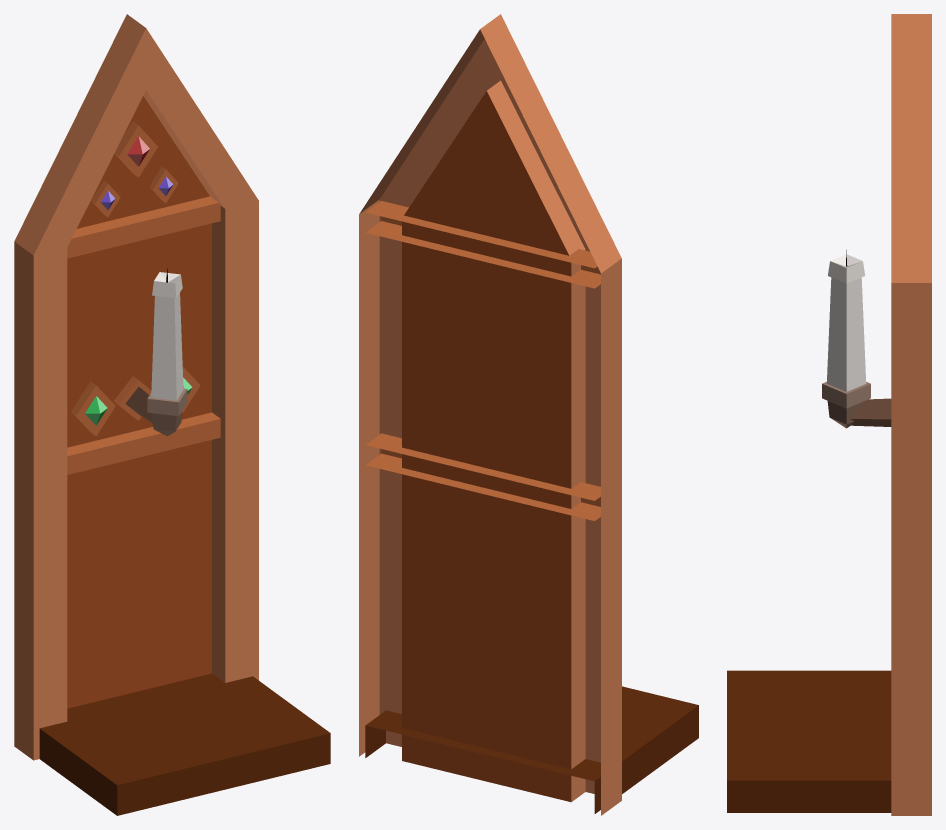
The model's file is Cathedral Hall Decor 02.fbx.
3 views of the same model, side by side, from view 1: azimuth 30°, elevation 25°; view 2: azimuth 150°, elevation 25°; view 3: azimuth 270°, elevation 25° (orthographic). The views are drawn at different scales.
Parts seen in each view (by area): view 1: Cathedral_Hall_Decor_02; view 2: Cathedral_Hall_Decor_02; view 3: Cathedral_Hall_Decor_02.
Boxes of the visible parts, x1,y1,x2,y2 form: Cathedral_Hall_Decor_02: (14, 14, 330, 815); Cathedral_Hall_Decor_02: (359, 14, 698, 815); Cathedral_Hall_Decor_02: (727, 14, 931, 815).
Size of the model in its own units: 163 by 487 by 122.
